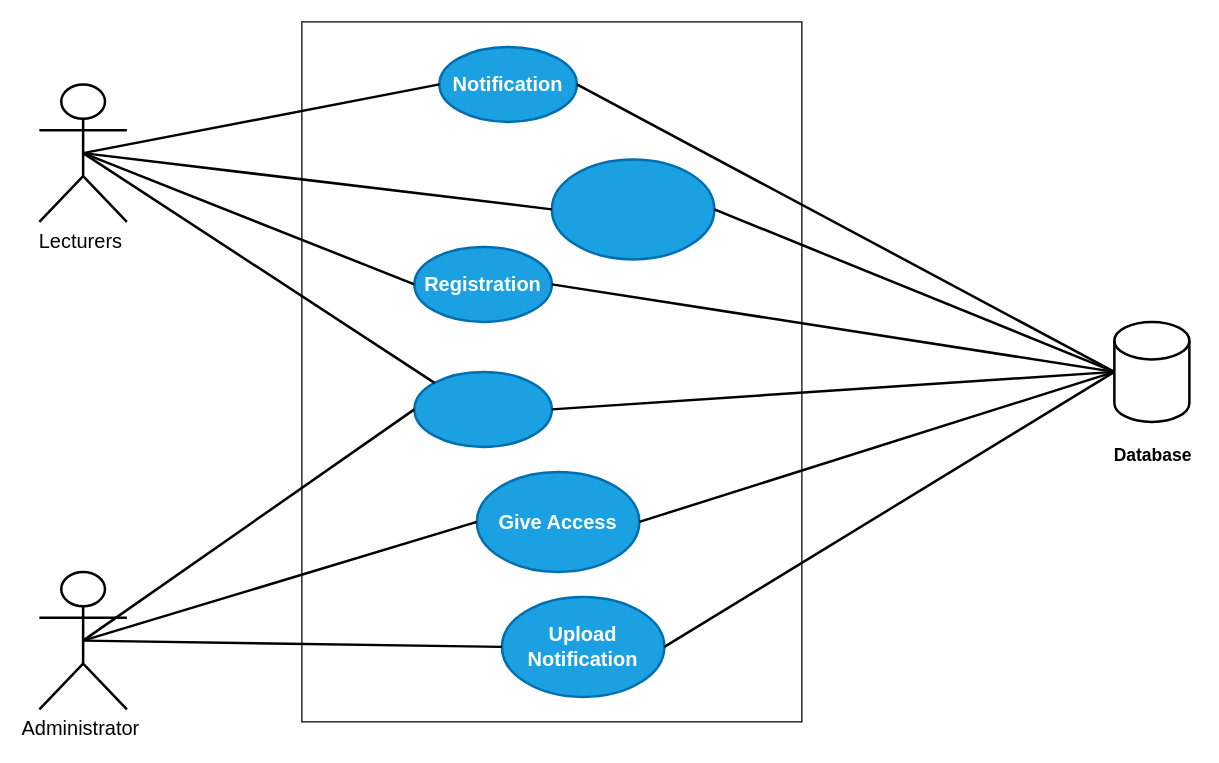
The diagram is 1219 pixels wide and 763 high, and some of its shapes have lost their labels. The centre of each missing label's shape, as x and y in pixels:
"Login" goes at (482,409).
"Upload Script" goes at (632,209).
